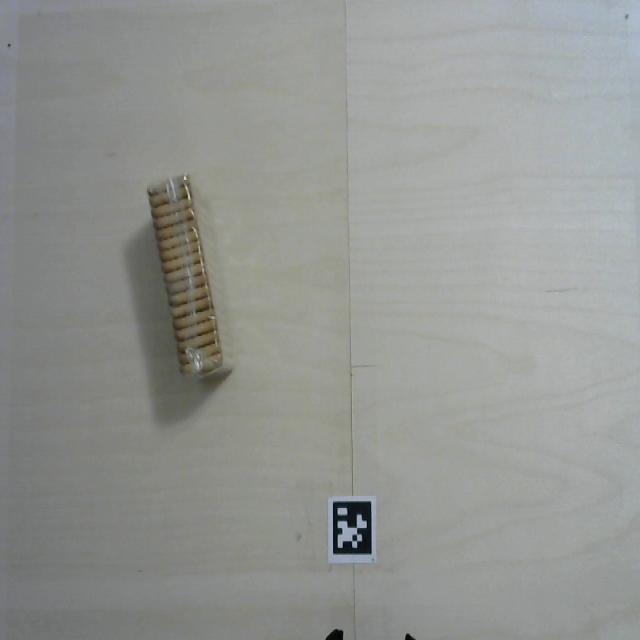biscuit: (142, 160, 248, 399)
